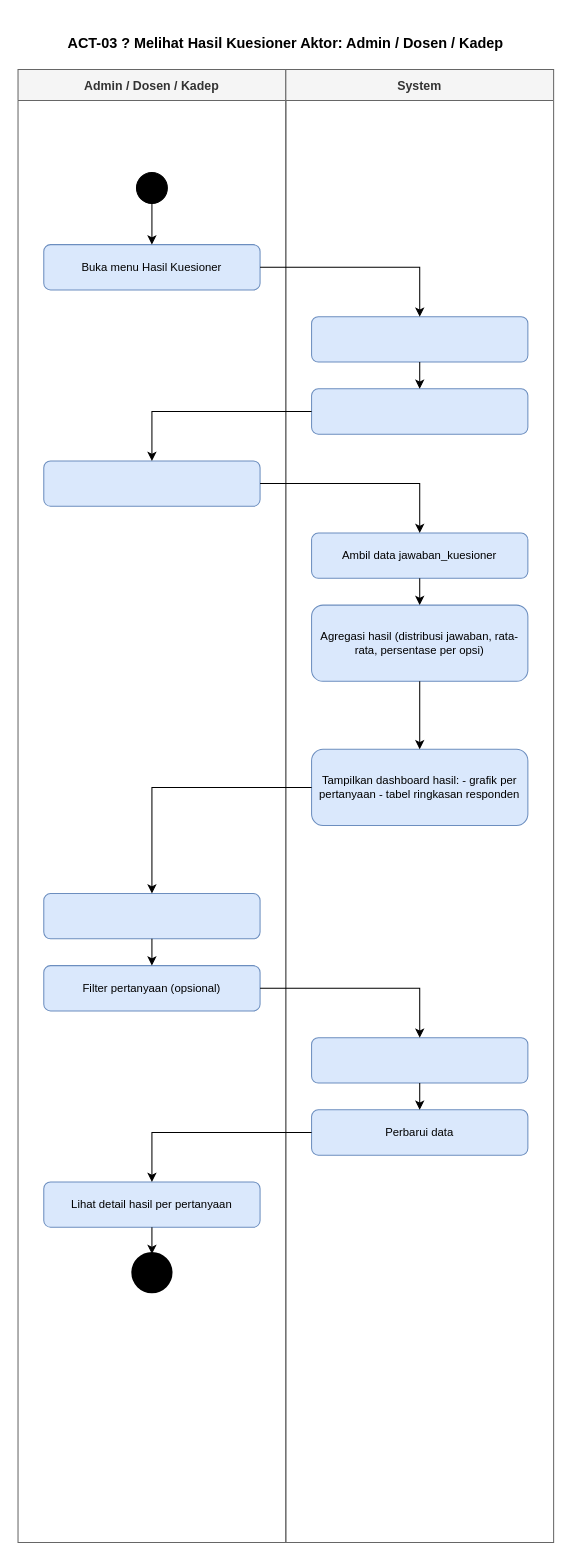
Image size: 572x1560. Some labels were removed from this diagram. The centre of each missing label's shape, as x and y in pixels:
Cek autentikasi & role: (419,339)
Lihat hasil kuesioner: (151,915)
Perbarui tampilan sesuai filter: (419,1060)
Pilih kuesioner: (151,483)
Tampilkan daftar kuesioner: (419,411)
